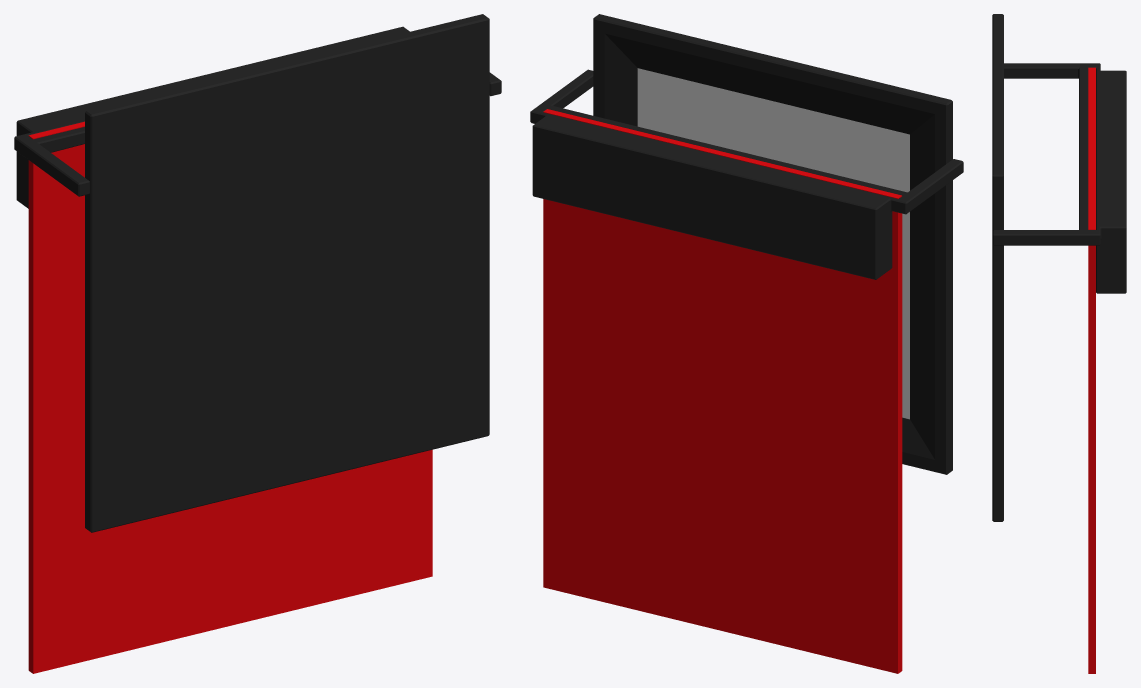
File: SM_SM_WallLamp_02.fbx
3 views of the same model, side by side, from view 1: azimuth 30°, elevation 25°; view 2: azimuth 150°, elevation 25°; view 3: azimuth 270°, elevation 25° (orthographic). The views are drawn at different scales.
Visible parts, largest first — view 1: SM_WallLamp_02; view 2: SM_WallLamp_02; view 3: SM_WallLamp_02.
Part boxes in pixels (box(x1,y1,x2,y2)): SM_WallLamp_02: box(14, 14, 501, 673); SM_WallLamp_02: box(530, 14, 963, 673); SM_WallLamp_02: box(992, 14, 1126, 673).
Bounding box in the file's own units: 53.04 × 71.82 × 17.54.
